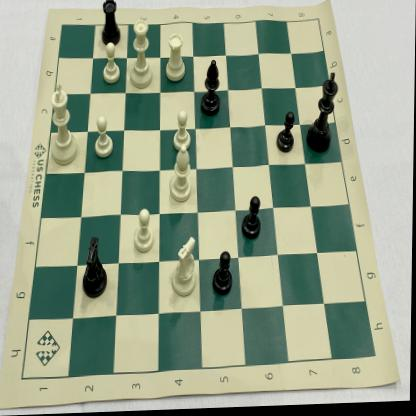black-bishop: (200, 58, 222, 121)
black-king: (305, 72, 341, 159)
black-knight: (80, 234, 114, 305)
black-pawn: (212, 246, 235, 300), (241, 194, 264, 245), (276, 109, 298, 158)
black-rook: (96, 0, 124, 53)
white-bishop: (166, 145, 195, 207)
white-king: (46, 80, 81, 169)
white-knight: (170, 233, 200, 303)
white-pawn: (97, 40, 125, 90), (131, 206, 155, 261), (170, 108, 194, 154), (93, 114, 116, 162)
white-queen: (128, 15, 156, 92)
white-rook: (162, 31, 189, 86)
